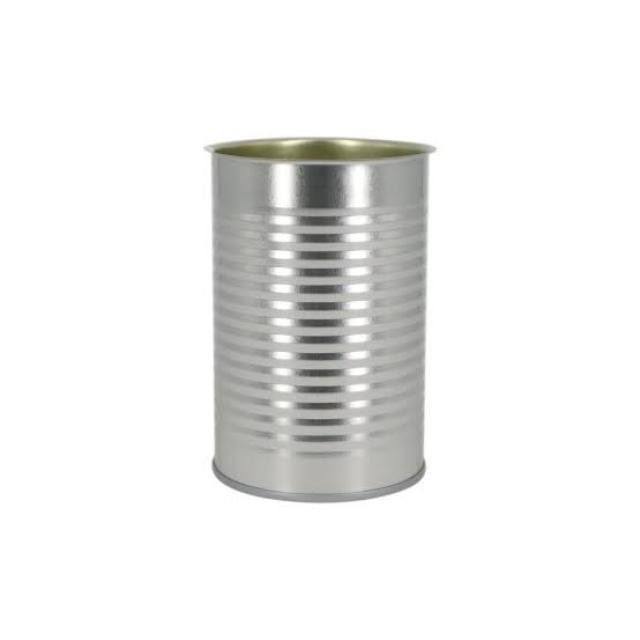metal: (188, 106, 446, 523)
